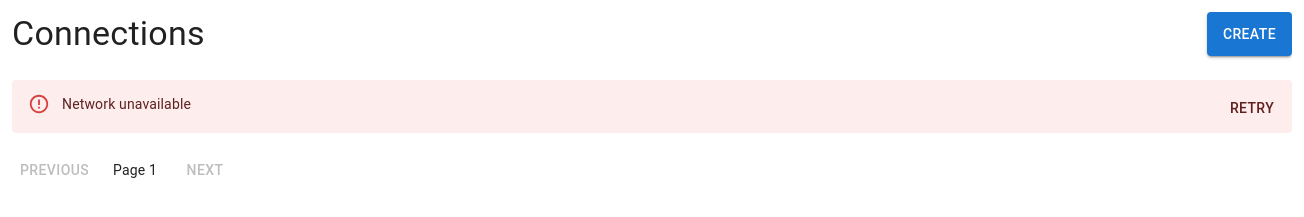
configuration management › reports list failures and retries
This screenshot has width=1304, height=217.
Expected: the text "Network unavailable" is shown, [62, 96, 191, 112]
Click the button "Retry" at (1252, 108), box [1220, 90, 1284, 126]
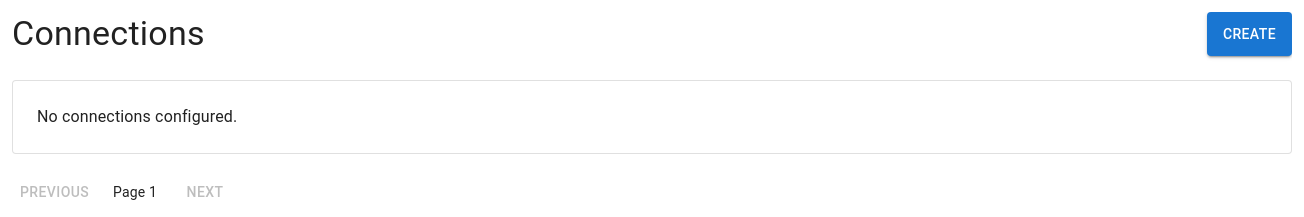
Expected: the text "No connections configured." is shown, [37, 107, 237, 126]
